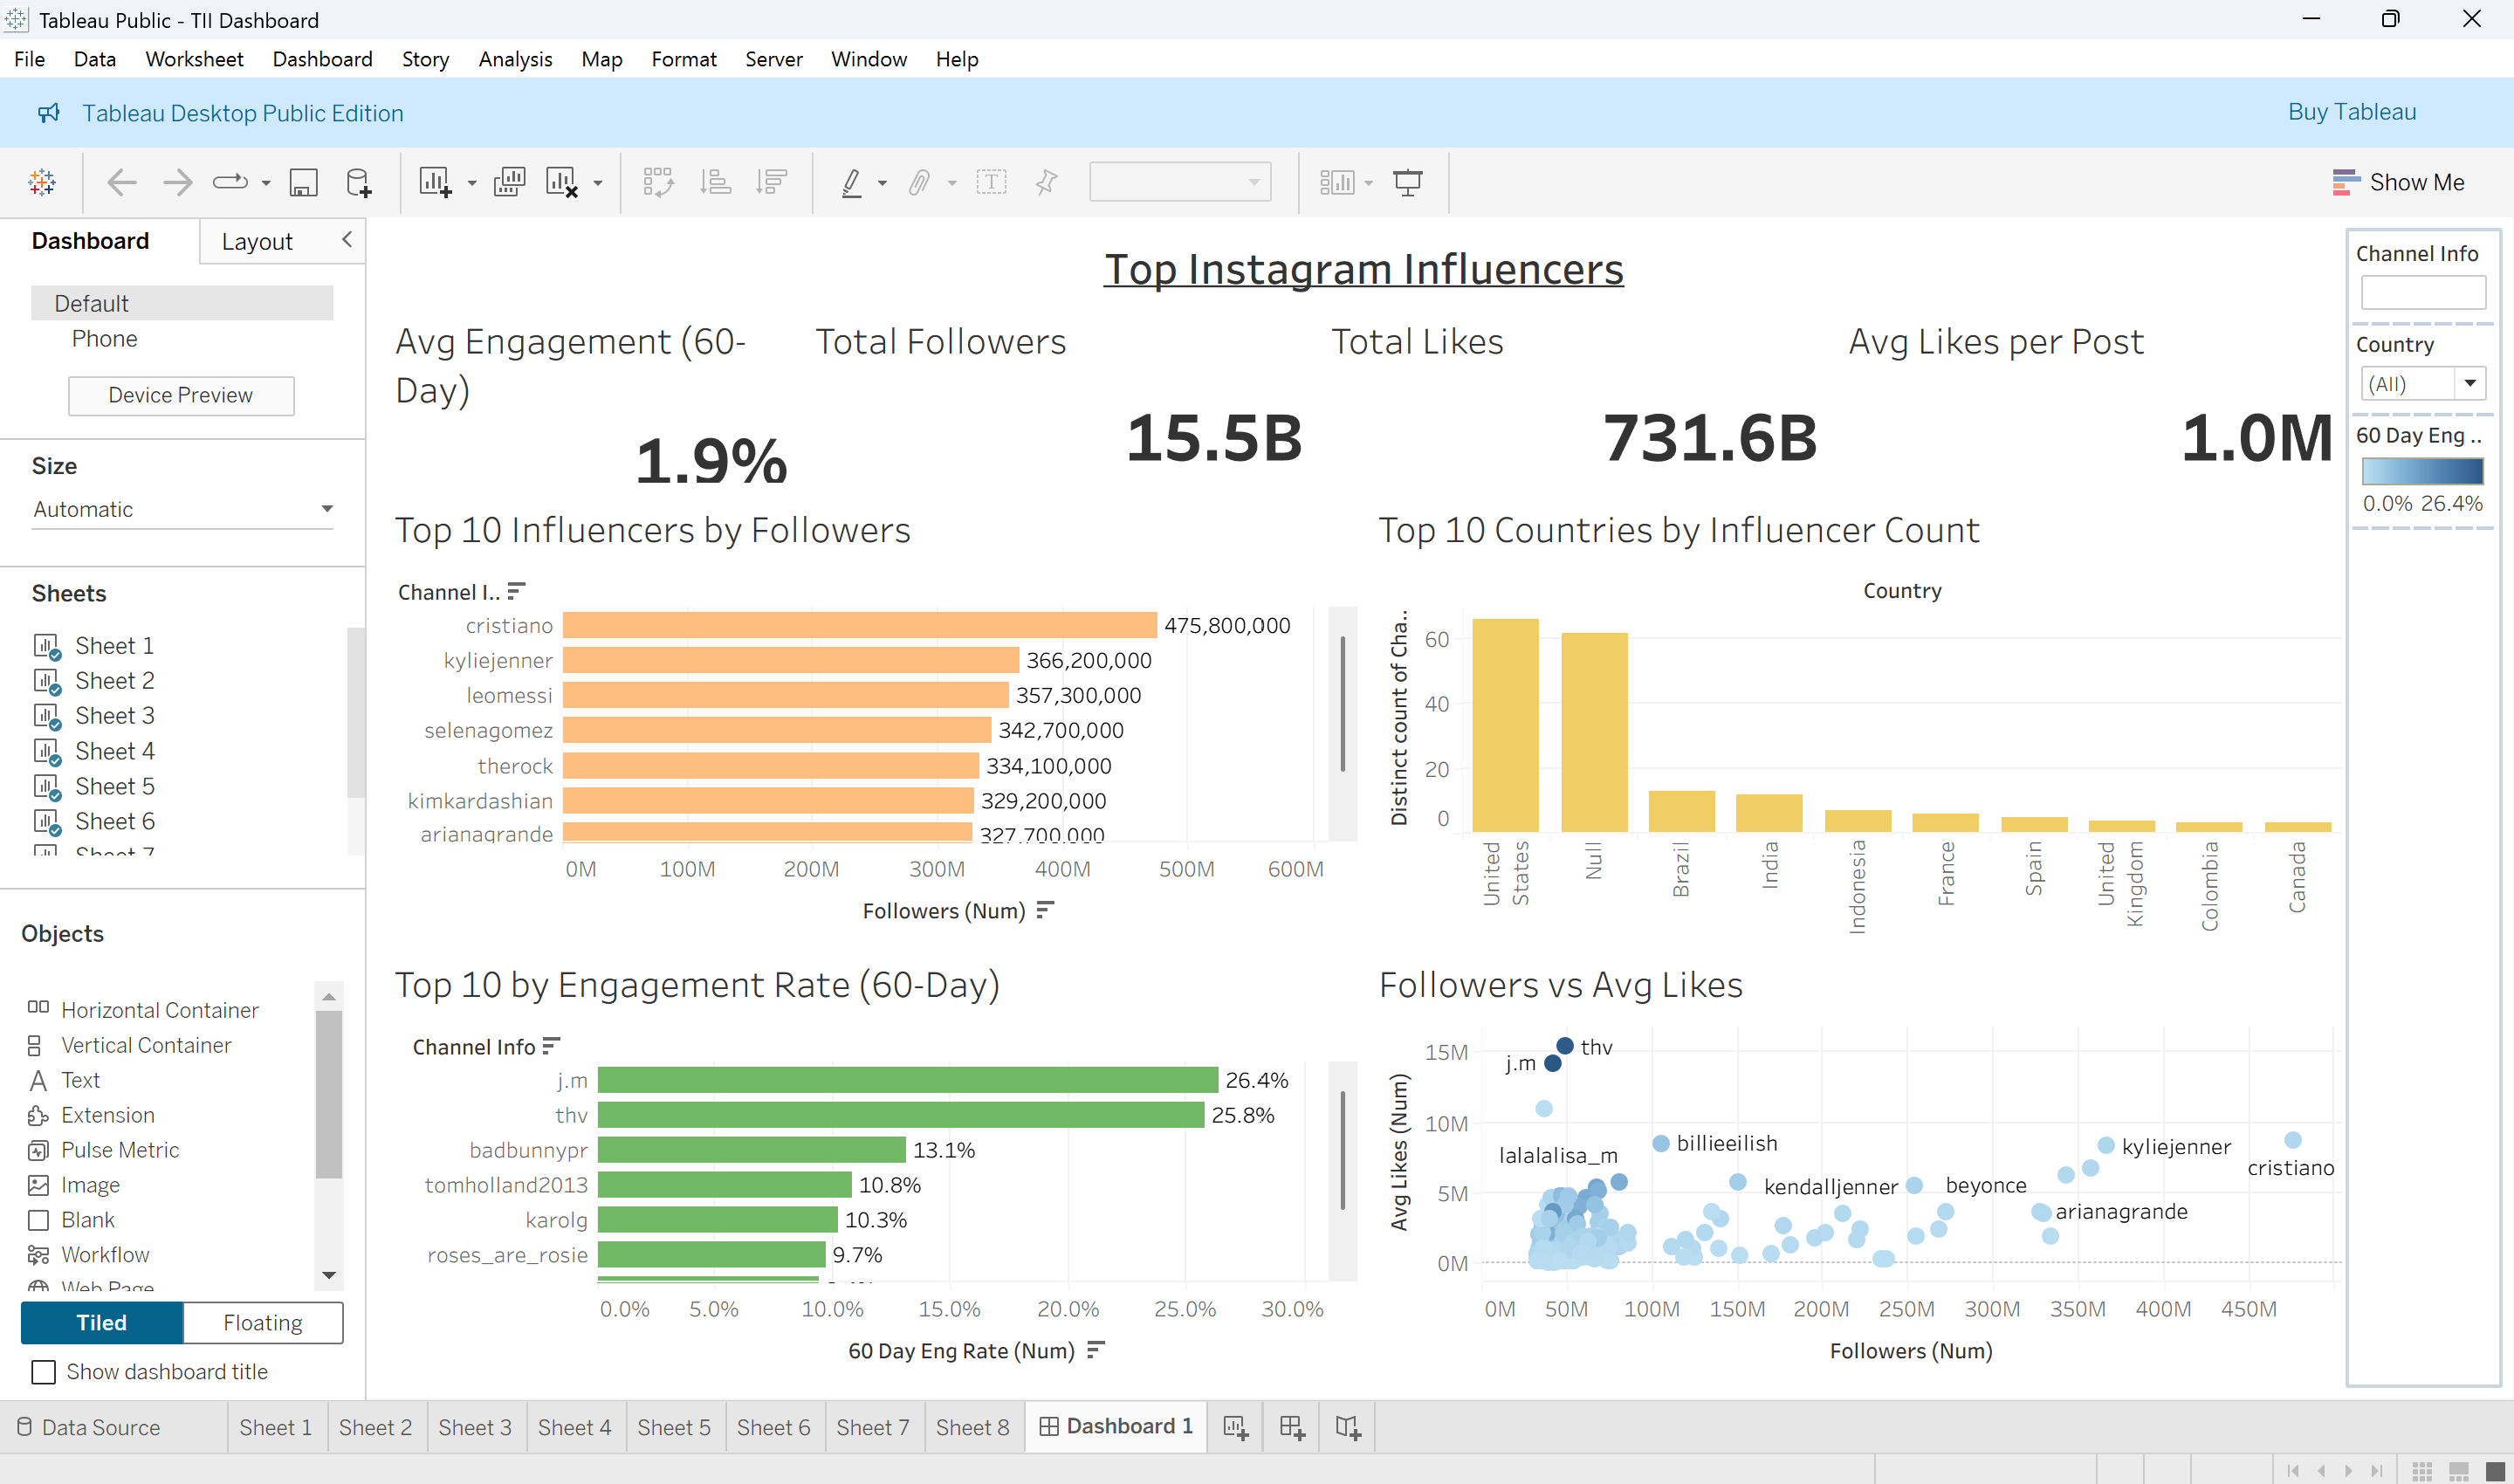

What the dashboard file says about the page in this screenshot:
{"tool":"tableau","page":{"name":"Dashboard 1","canvas":[1000,1000],"units":"permille","ordinal":0},"visuals":[{"type":"title","box":[6.5,11.8,917,59.2]},{"type":"filter","title":"Sheet 8","param":"[federated.0oopvit0wihjkv19s4vfk1x3f31y].[none:channel_info:nk]","box":[923.5,11.8,70,76.9]},{"type":"worksheet","title":"Sheet 2","mark":"Automatic","box":[6.5,71,196.1,159.8]},{"type":"worksheet","title":"Sheet 1","mark":"Automatic","box":[202.6,71,240.3,159.8]},{"type":"worksheet","title":"Sheet 4","mark":"Automatic","box":[442.9,71,240.3,159.8]},{"type":"worksheet","title":"Sheet 3","mark":"Automatic","box":[683.2,71,240.3,159.8]},{"type":"filter","title":"Sheet 8","param":"[federated.0oopvit0wihjkv19s4vfk1x3f31y].[none:country:nk]","box":[923.5,88.8,70,76.9]},{"type":"legend","title":"Sheet 8","param":"[federated.0oopvit0wihjkv19s4vfk1x3f31y].[sum:Calculation_2735373882609827845:qk","box":[923.5,165.7,70,96.2]},{"type":"worksheet","title":"Sheet 5","mark":"Automatic","rows":["channel_info"],"cols":["Calculation_2735373882609258496"],"box":[6.5,230.8,458.1,384.6]},{"type":"worksheet","title":"Sheet 7","mark":"Automatic","rows":["channel_info"],"cols":["country"],"box":[464.6,230.8,458.9,384.6]},{"type":"worksheet","title":"Sheet 6","mark":"Automatic","rows":["channel_info"],"cols":["Calculation_2735373882609827845"],"box":[6.5,615.4,458.5,372.8]},{"type":"worksheet","title":"Sheet 8","mark":"Circle","rows":["Calculation_2735373882609504258"],"cols":["Calculation_2735373882609258496"],"box":[465,615.4,458.5,372.8]}]}

Visuals, with their boxes on the dashboard's canvas, which has no fixed pixel size, in thousandths of its width and height (x1, y1, x2, y2). These are canvas units, not pixel positions in the 2514x1484 screenshot, which may show the page scaled, cropped or inside an application window:
title: x1=6, y1=12, x2=924, y2=71
"Sheet 8" filter: x1=924, y1=12, x2=994, y2=89
"Sheet 2" worksheet: x1=6, y1=71, x2=203, y2=231
"Sheet 1" worksheet: x1=203, y1=71, x2=443, y2=231
"Sheet 4" worksheet: x1=443, y1=71, x2=683, y2=231
"Sheet 3" worksheet: x1=683, y1=71, x2=924, y2=231
"Sheet 8" filter: x1=924, y1=89, x2=994, y2=166
"Sheet 8" legend: x1=924, y1=166, x2=994, y2=262
"Sheet 5" worksheet: x1=6, y1=231, x2=465, y2=615
"Sheet 7" worksheet: x1=465, y1=231, x2=924, y2=615
"Sheet 6" worksheet: x1=6, y1=615, x2=465, y2=988
"Sheet 8" worksheet (Circle marks): x1=465, y1=615, x2=924, y2=988
